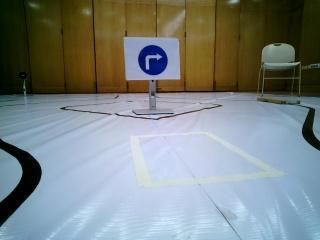right: (125, 41, 179, 79)
